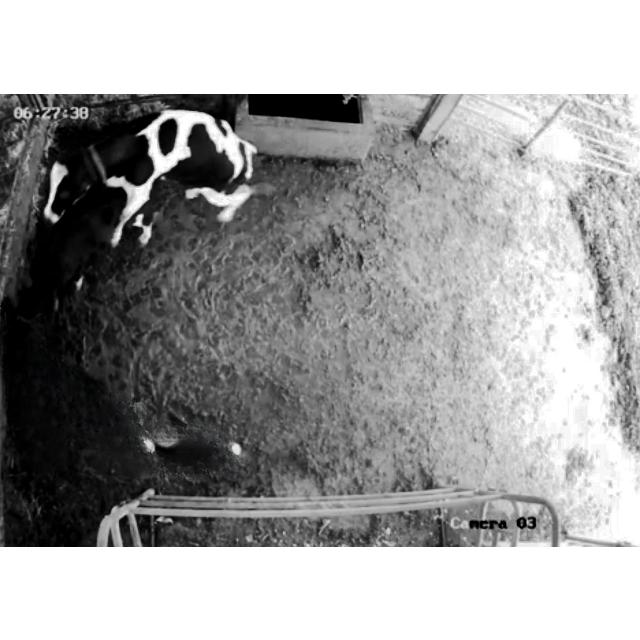ride: (34, 103, 284, 250)
